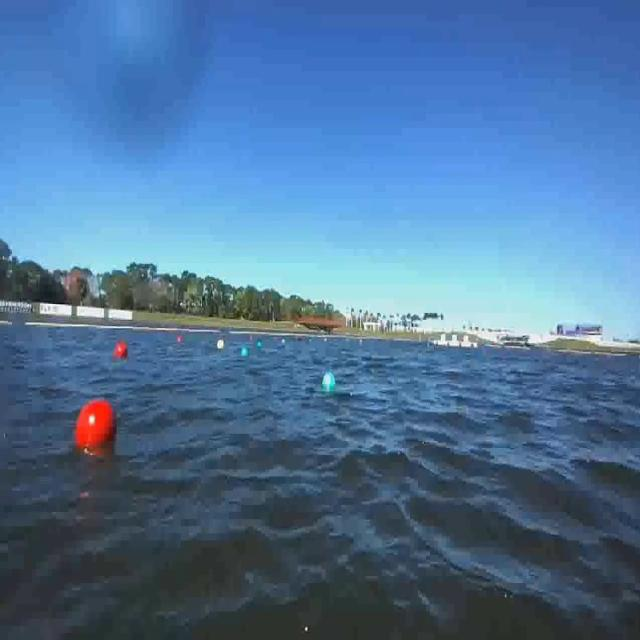green-buoy: (322, 372, 336, 394), (242, 346, 249, 358)
red-buoy: (75, 396, 121, 457), (116, 342, 132, 363)
yellow-buoy: (212, 336, 227, 352)
